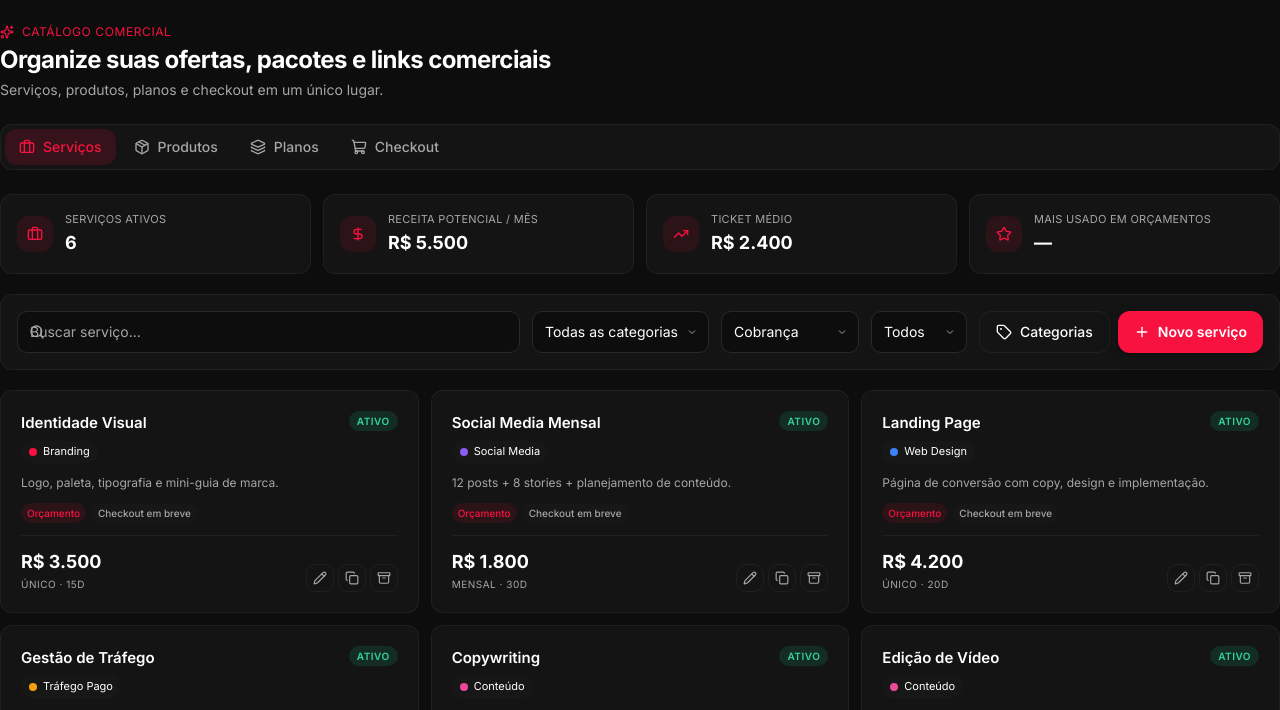
it: Catálogo · fonte LOCAL (padrão) › nenhum banner, nenhuma request, e criar serviço grava no local com o toast de sempre
This screenshot has width=1280, height=710.
Click the button "Novo serviço" at (1190, 332), box x1=1118 y1=311 x2=1263 y2=353
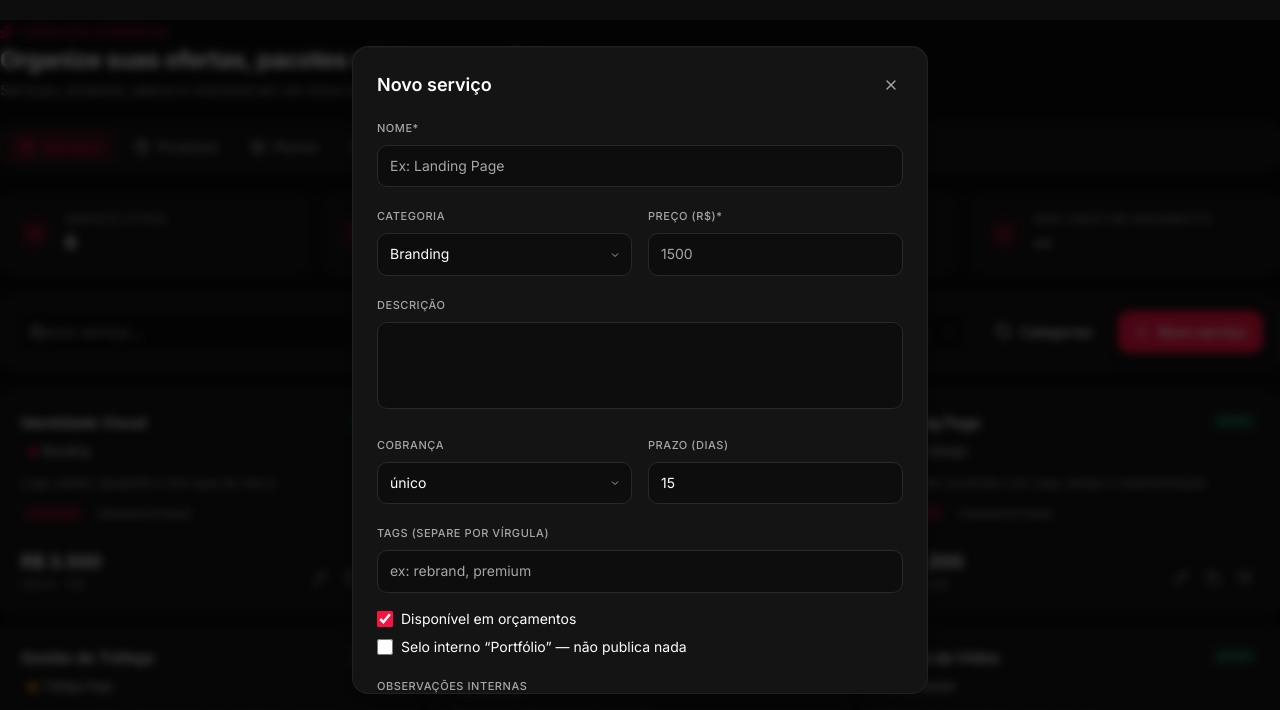
Type "Meu serviço" into the field with placeholder "Ex: Landing Page" at (640, 166), box x1=377 y1=145 x2=903 y2=187
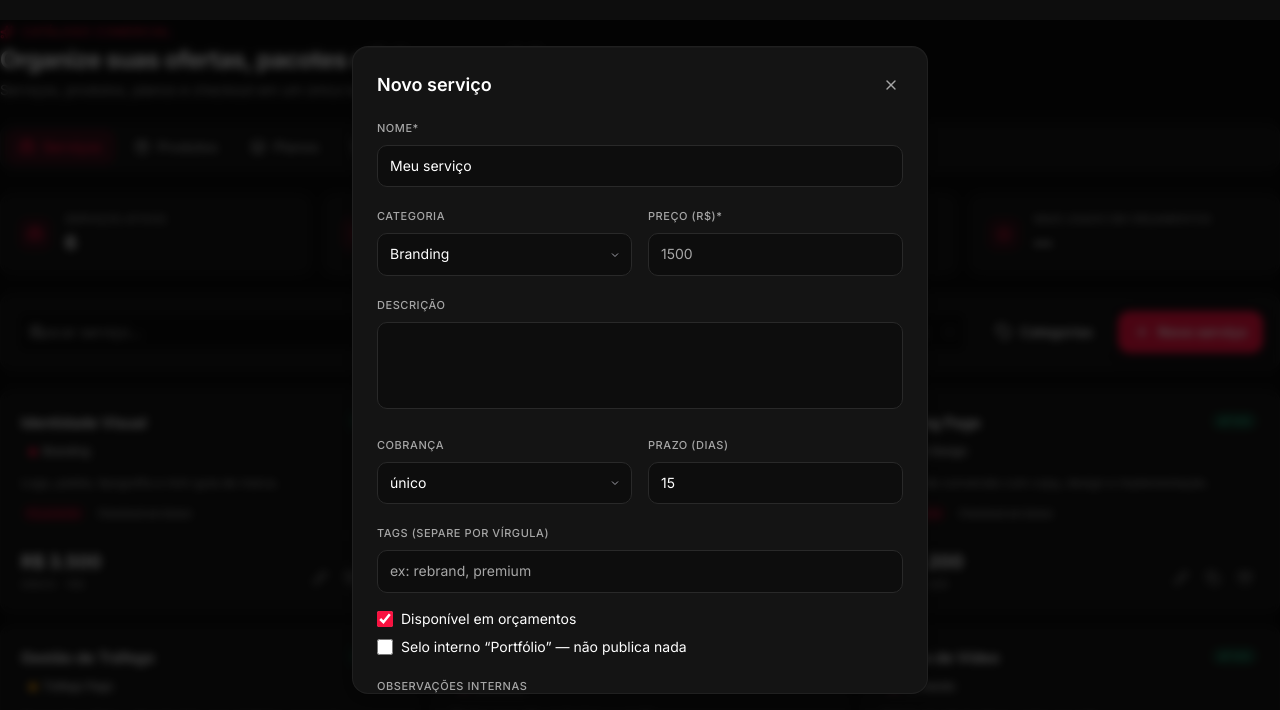
Type "250" into the number field with placeholder "1500" at (776, 255), box x1=648 y1=233 x2=903 y2=276
(page scrolled)
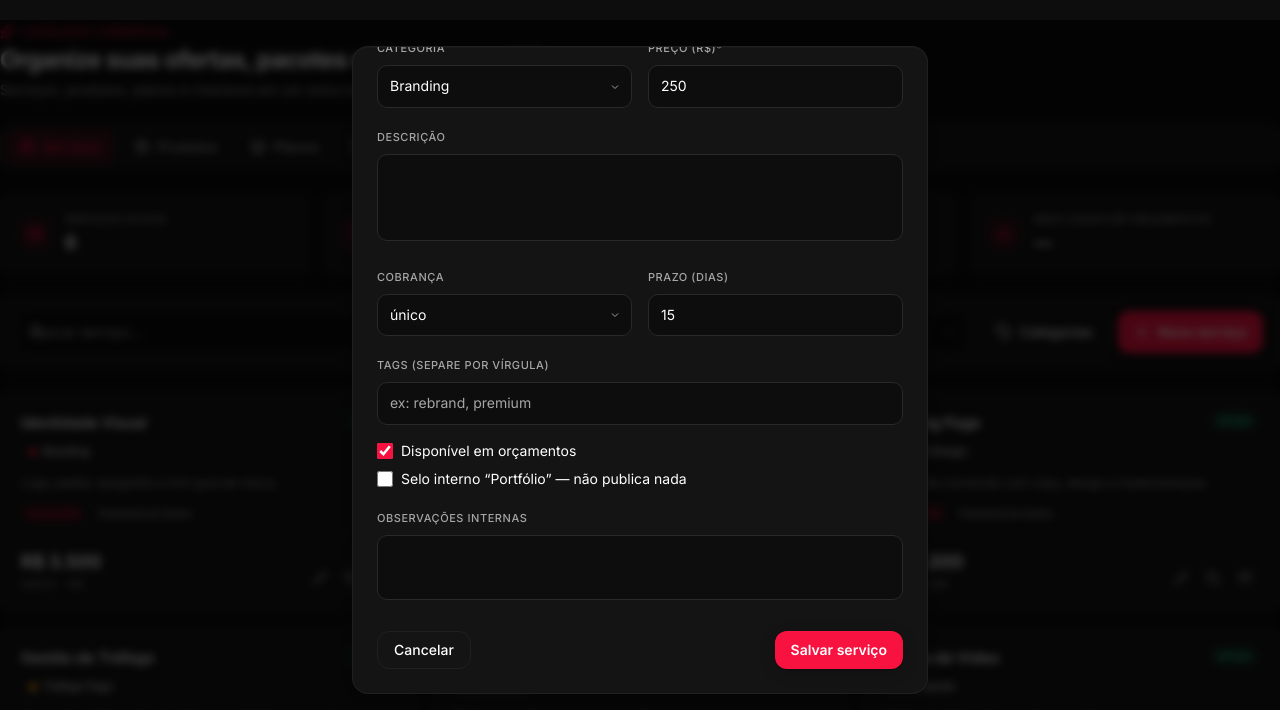
Click the button "Salvar serviço" at (839, 650), box x1=774 y1=630 x2=903 y2=668
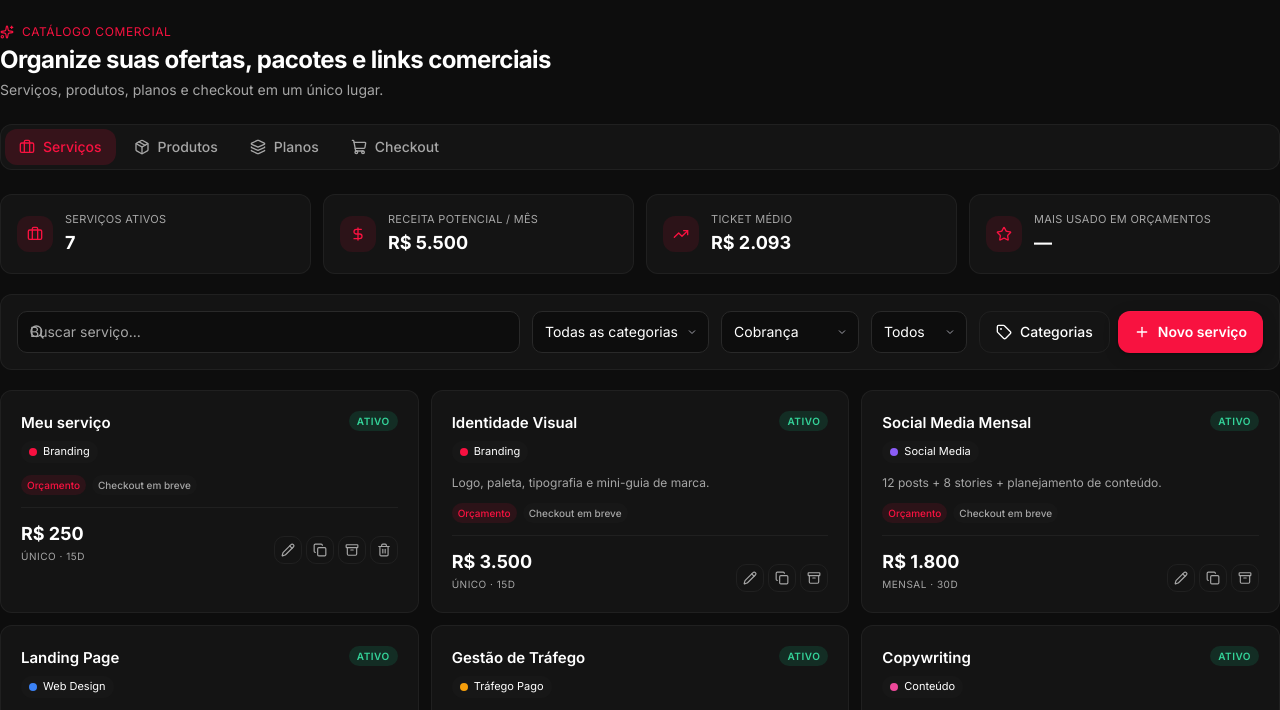
Expected: the button "Salvar serviço" is gone
